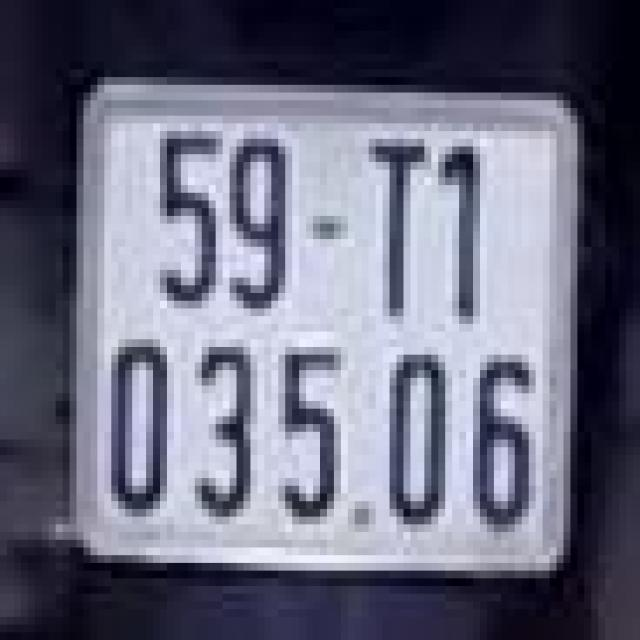0: (376, 343, 459, 544), (104, 332, 174, 524)
1: (428, 124, 490, 332)
3: (188, 332, 264, 532)
5: (143, 116, 226, 316)
6: (463, 339, 546, 540), (268, 328, 351, 528)
9: (223, 100, 299, 316)
T: (358, 116, 428, 332)
